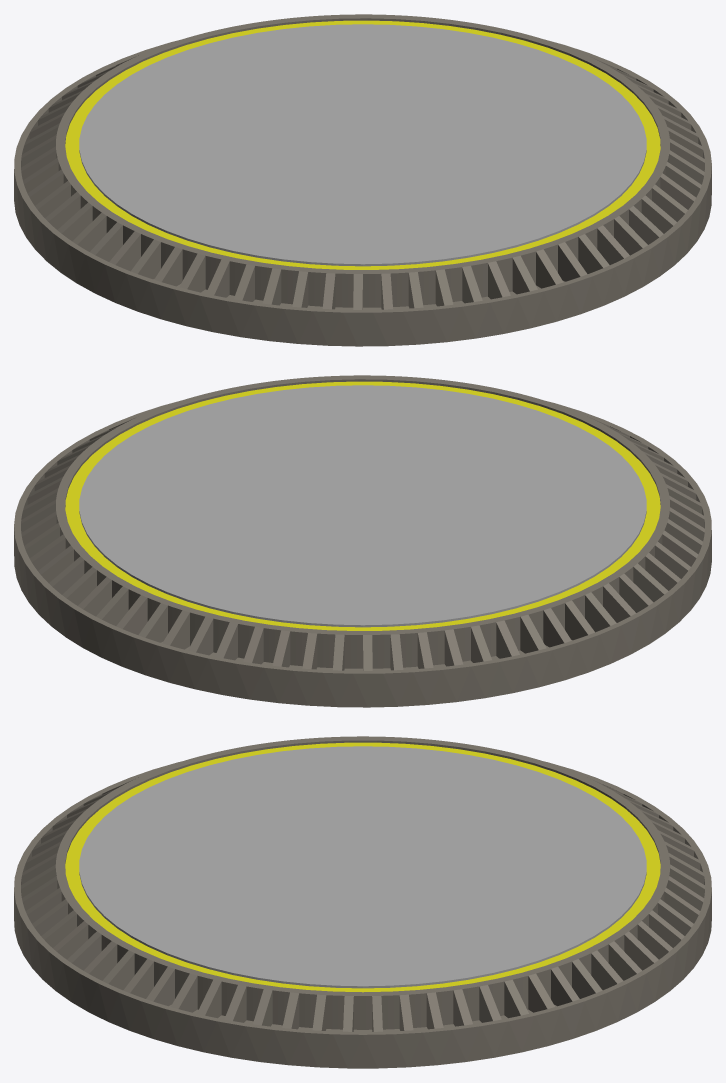
Rendered from CapsulePod.fbx.
3 views of the same model, one above another, from view 1: azimuth 30°, elevation 25°; view 2: azimuth 150°, elevation 25°; view 3: azimuth 270°, elevation 25° (orthographic).
Visible parts, largest first — view 1: CapsulePode; view 2: CapsulePode; view 3: CapsulePode.
Boxes of the visible parts, <box> form: CapsulePode: <box>14,14,711,346</box>; CapsulePode: <box>14,375,711,707</box>; CapsulePode: <box>14,736,711,1068</box>.
Bounding box in the file's own units: 15000 × 1300 × 14997.
